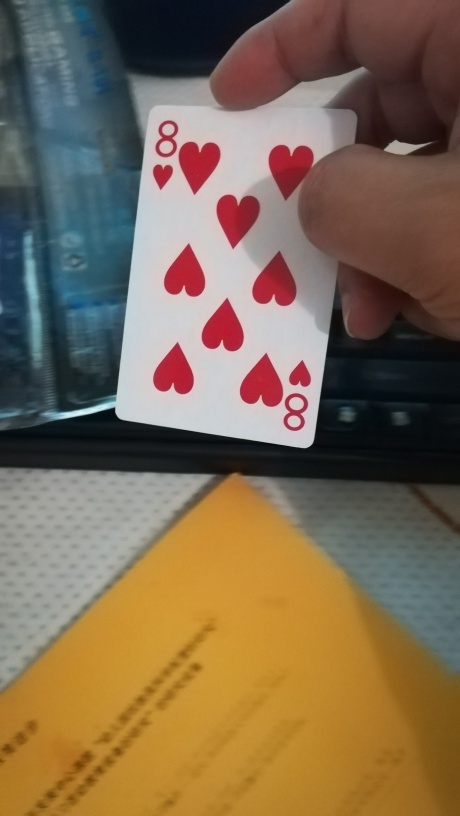hx 8: (114, 101, 358, 450)
